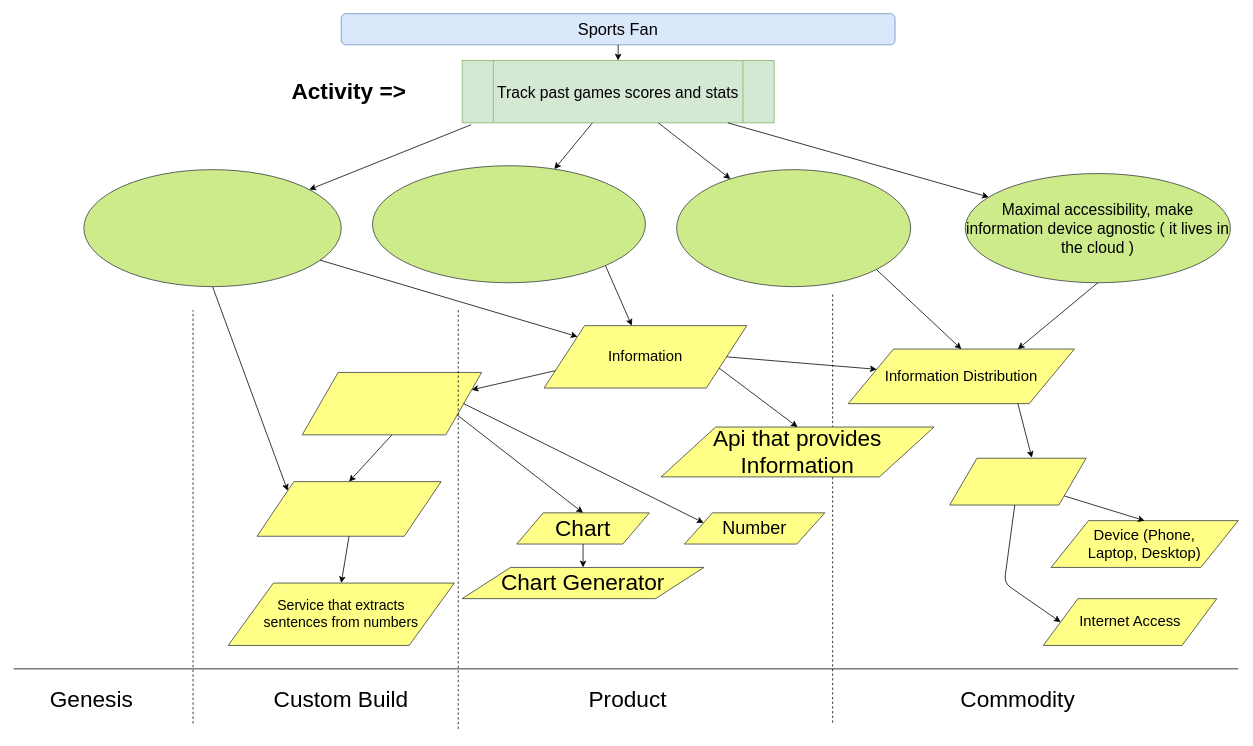
Image size: 1253x746. Some labels were removed from this diagram. Each missing label, with the centre of its shape:
"Email" goes at [1017,481].
"Get data charts that tell better story that just numbers and letters" goes at [508,224].
"Get human consumable info , not just bunch of numbers, turn numbers into letters" goes at [212,228].
"Information format" goes at [391,403].
"Minimize time to get information you are looking for" goes at [793,228].
"Sentence" goes at [348,508].
